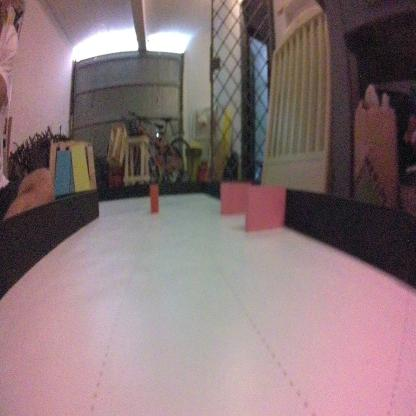magenta: (242, 181, 286, 236), (219, 180, 252, 216)
red: (147, 183, 161, 215)
